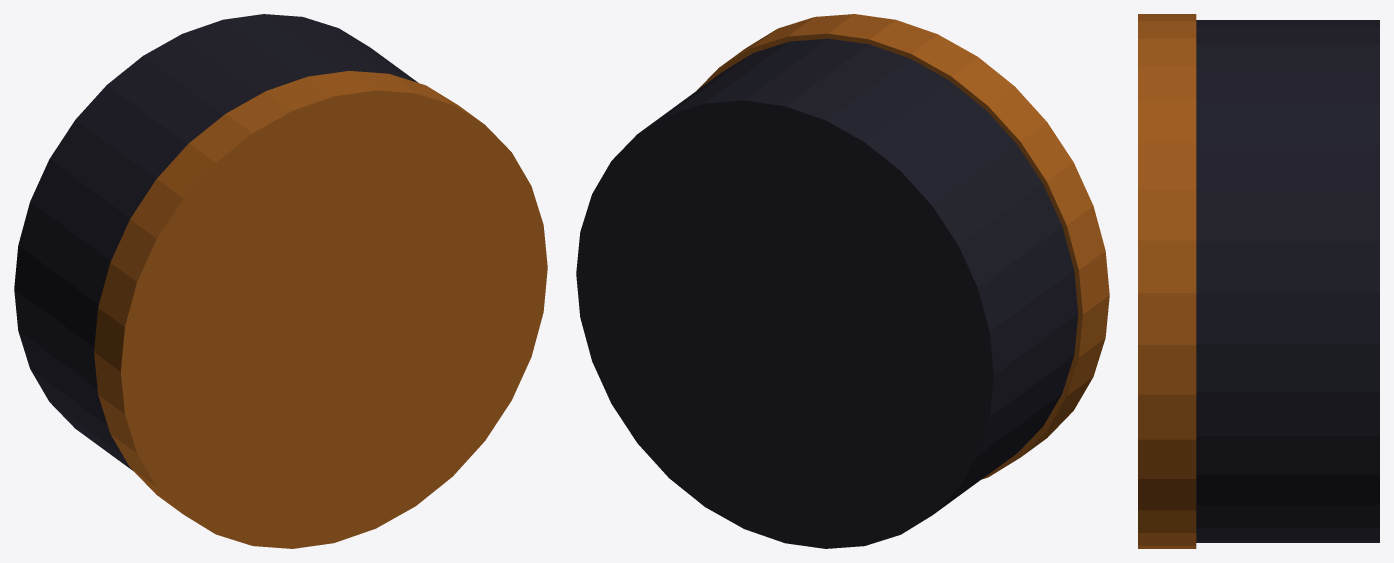
File: adanat-10045-6.glb
The picture shows the model from 3 angles, left to right: view 1: azimuth 30°, elevation 25°; view 2: azimuth 150°, elevation 25°; view 3: azimuth 270°, elevation 25°; orthographic projection. The views are drawn at different scales.
Parts seen in each view (by area): view 1: Cylinder.154, Cylinder.153; view 2: Cylinder.153, Cylinder.154; view 3: Cylinder.153, Cylinder.154.
Boxes of the visible parts, left/top/right/bottom form: Cylinder.154: left=94, top=71, right=547, bottom=548; Cylinder.153: left=14, top=14, right=418, bottom=471; Cylinder.153: left=576, top=38, right=1078, bottom=548; Cylinder.154: left=697, top=14, right=1109, bottom=479; Cylinder.153: left=1196, top=20, right=1379, bottom=542; Cylinder.154: left=1138, top=14, right=1196, bottom=548.
Bounding box in the file's own units: 0.9203 × 0.9203 × 0.4156.
